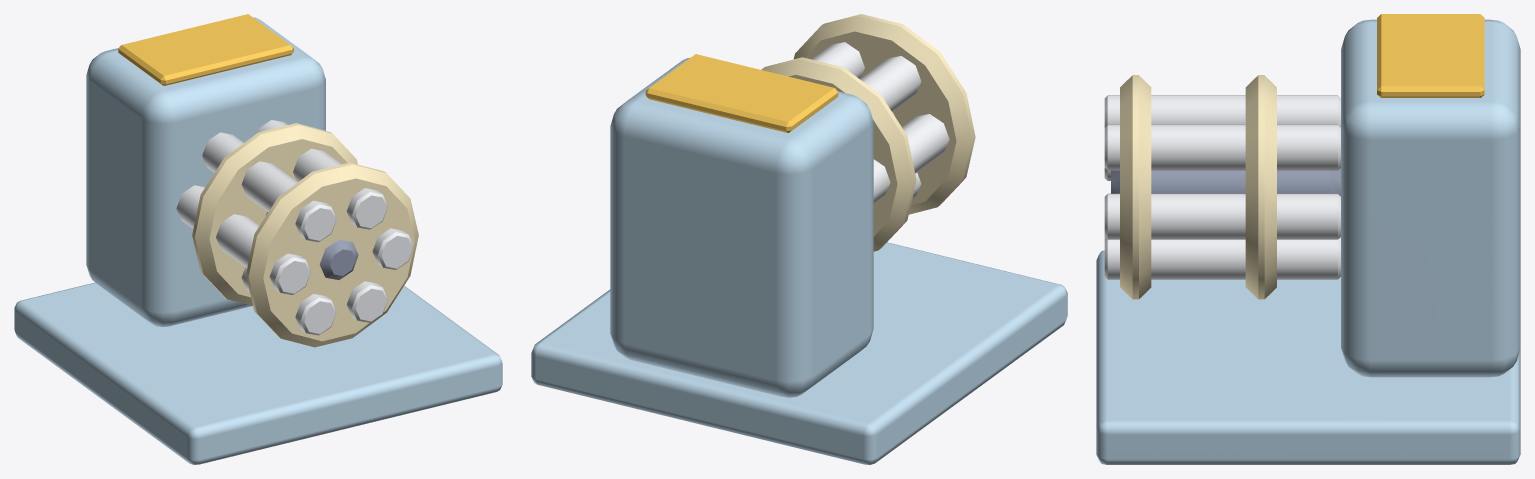
File: R4X_RapidFire.fbx
3 views of the same model, side by side, from view 1: azimuth 30°, elevation 25°; view 2: azimuth 150°, elevation 25°; view 3: azimuth 270°, elevation 25° (orthographic). The views are drawn at different scales.
Visible parts, largest first — view 1: R4X_RapidFire_Body, R4X_RapidFire_Barrels; view 2: R4X_RapidFire_Body, R4X_RapidFire_Barrels; view 3: R4X_RapidFire_Body, R4X_RapidFire_Barrels.
Boxes of the visible parts, x1,y1,x2,y2 form: R4X_RapidFire_Body: (14,14,502,464); R4X_RapidFire_Barrels: (176,120,418,347); R4X_RapidFire_Body: (531,54,1067,464); R4X_RapidFire_Barrels: (761,14,975,251); R4X_RapidFire_Body: (1096,14,1520,464); R4X_RapidFire_Barrels: (1104,75,1340,299).
Bounding box in the file's own units: 0.52 × 0.4458 × 0.52.
